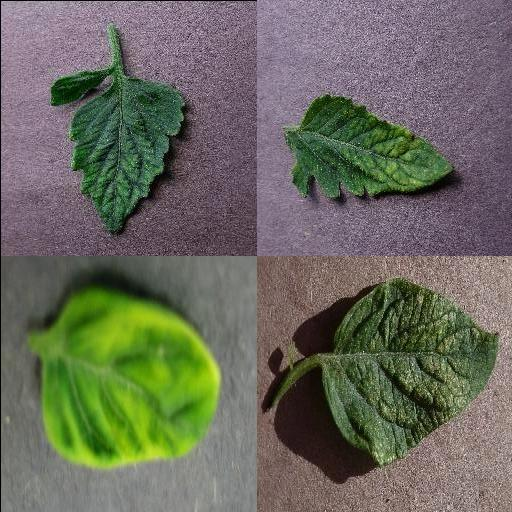Mosaic Virus: (69, 74, 183, 238), (286, 93, 456, 201), (47, 70, 109, 108)
Spider Mites: (320, 278, 498, 464)
Yellow Leaf Curl Virus: (39, 285, 221, 470)
